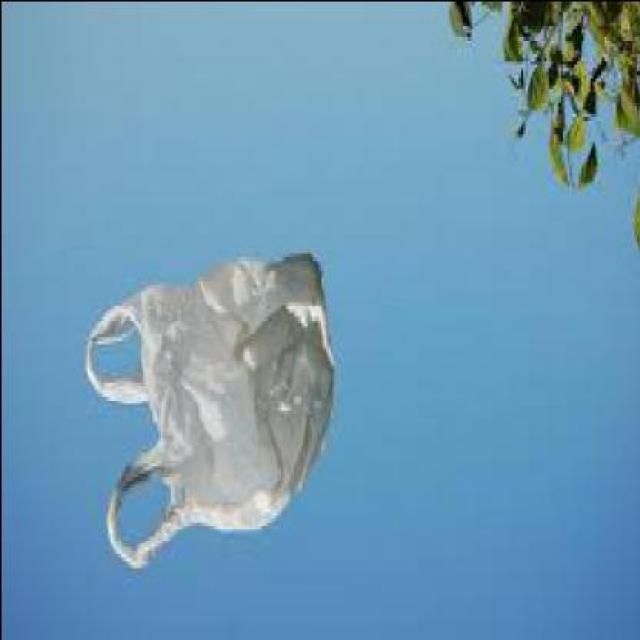PLASTIC: (86, 255, 334, 574)
